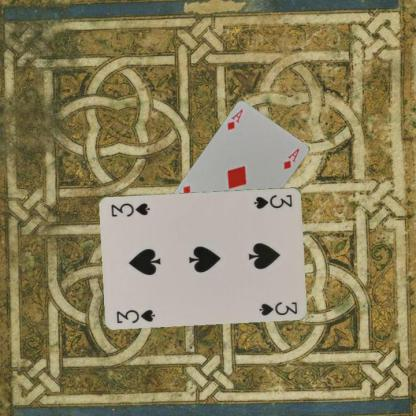3s: (251, 191, 294, 210), (115, 306, 156, 324)
Ad: (225, 107, 244, 132)
